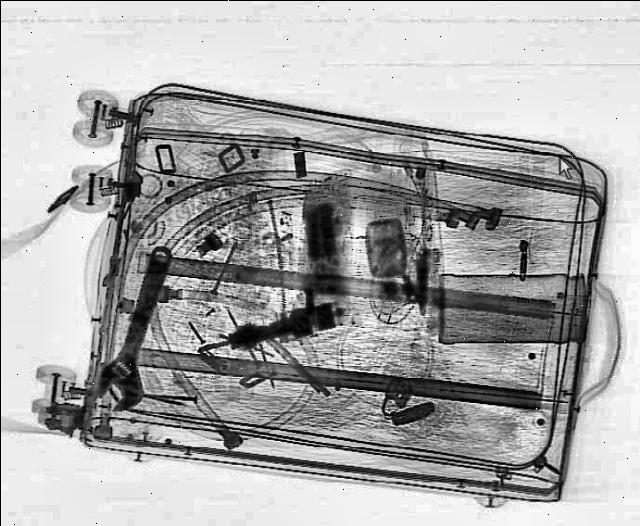Wrench: (84, 241, 188, 414)
